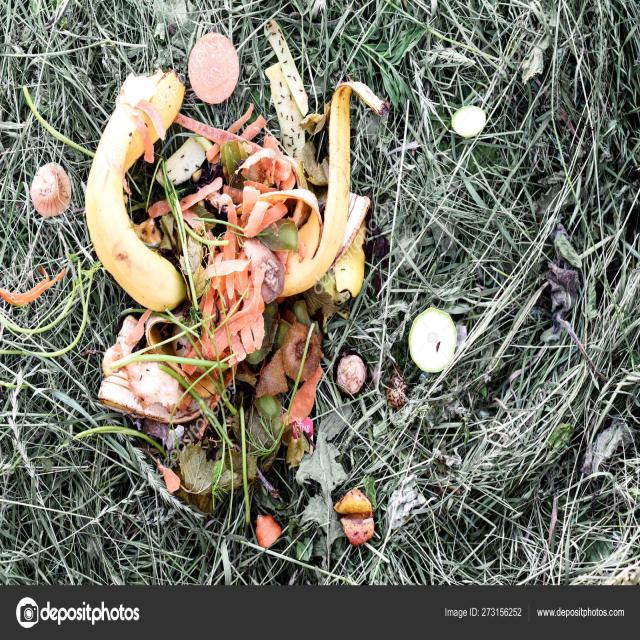Organic: (89, 12, 395, 546), (91, 52, 187, 300), (410, 303, 458, 396), (186, 30, 243, 104), (34, 166, 70, 214), (452, 106, 481, 139)
